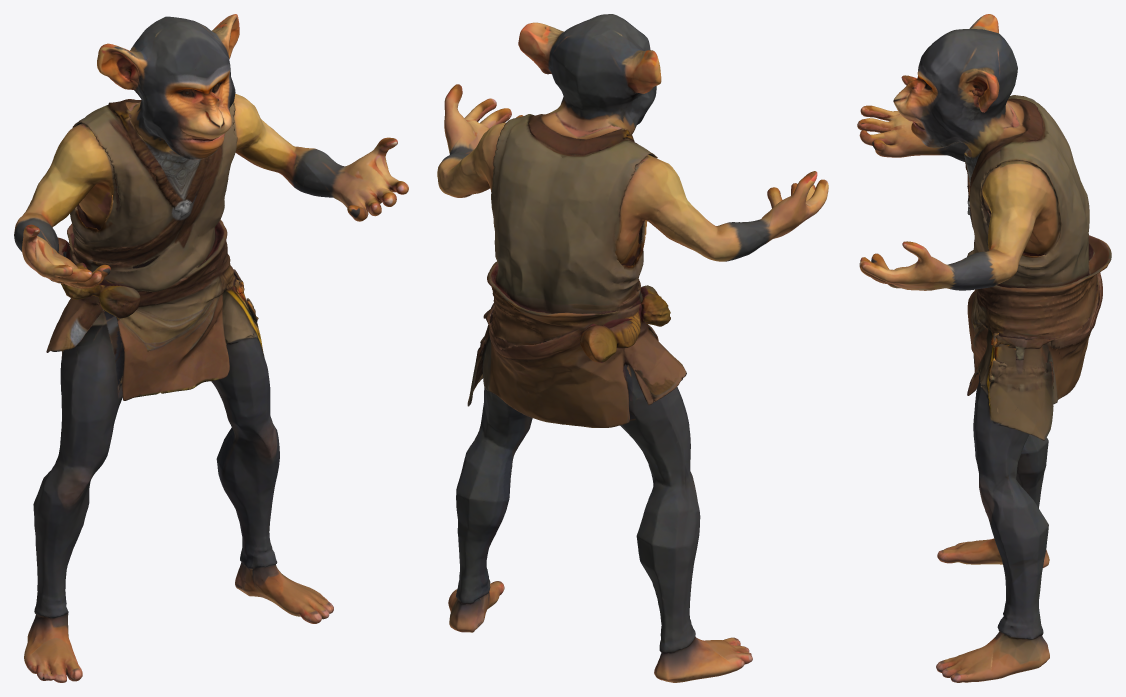
File: LowPolyMonkey.fbx
3 views of the same model, side by side, from view 1: azimuth 30°, elevation 25°; view 2: azimuth 150°, elevation 25°; view 3: azimuth 270°, elevation 25° (orthographic). The views are drawn at different scales.
Visible parts, largest first — view 1: Mesh_0; view 2: Mesh_0; view 3: Mesh_0.
Boxes of the visible parts, x1,y1,x2,y2 form: Mesh_0: (14, 14, 408, 682); Mesh_0: (437, 14, 828, 682); Mesh_0: (857, 14, 1111, 682).
Size of the model in its own units: 62.22 by 100 by 39.32.
1 material, 1 textured.
